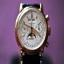watch: (13, 6, 53, 55)
